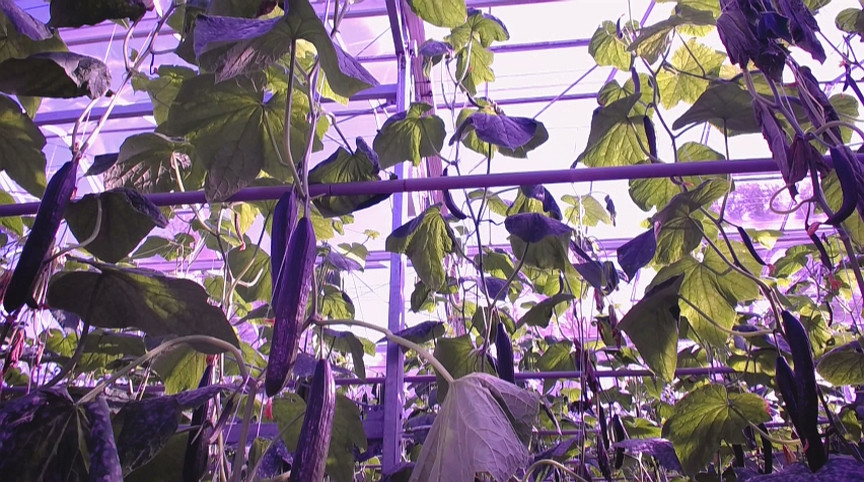cucumber: (3, 162, 79, 311), (266, 218, 317, 396), (773, 359, 827, 471), (291, 360, 338, 479), (779, 310, 818, 437), (184, 367, 219, 480), (271, 194, 297, 288), (497, 322, 516, 382)
